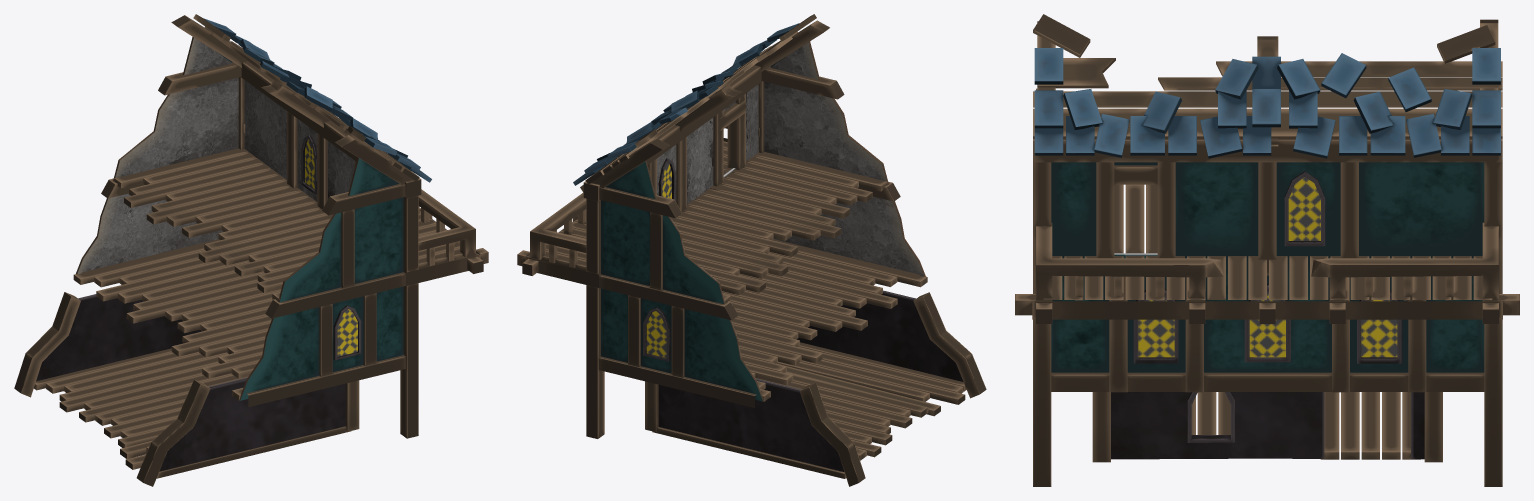
The model's file is RuinedHouse2.glb.
3 views of the same model, side by side, from view 1: azimuth 30°, elevation 25°; view 2: azimuth 150°, elevation 25°; view 3: azimuth 270°, elevation 25° (orthographic). The views are drawn at different scales.
Parts seen in each view (by area): view 1: CasaDestruc2; view 2: CasaDestruc2; view 3: CasaDestruc2.
Part boxes in pixels (x1,y1,x2,y2): CasaDestruc2: (14, 14, 488, 486); CasaDestruc2: (517, 14, 986, 486); CasaDestruc2: (1015, 14, 1519, 486).
Bounding box in the file's own units: 9.02 × 8.65 × 8.93.
1 material, 1 textured.
